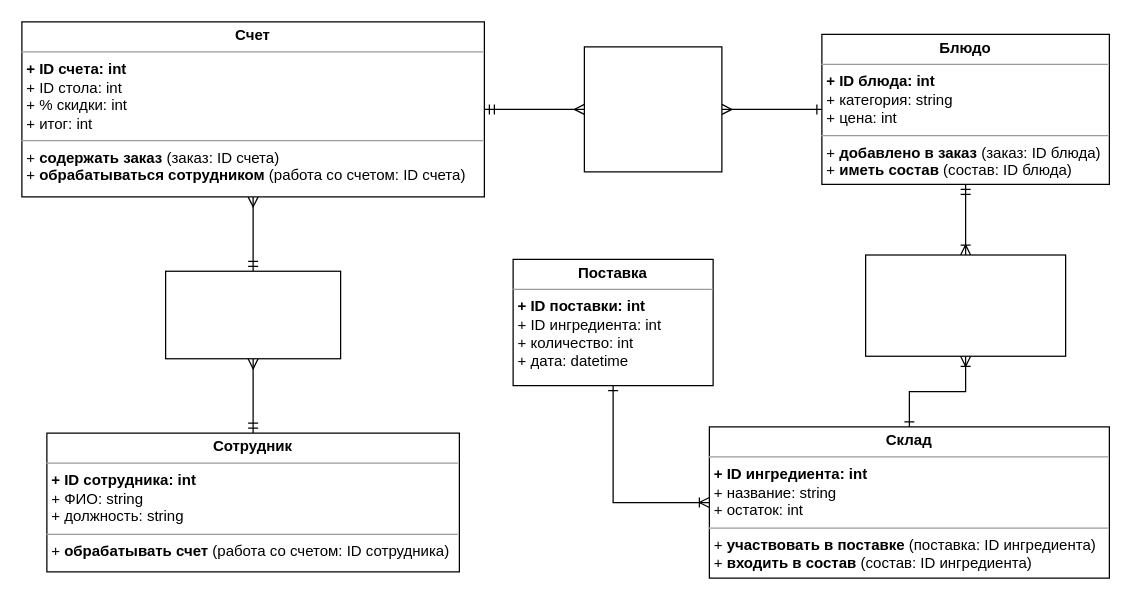
Image size: 1131x600. Some labels were removed from this diagram. Here are the shapes that lost their labels. From the top down, the centre of each, then its label:
At (x=652, y=109): "Заказ + ID счета: int + ID блюда: int + количество: int + сумма: int".
At (x=252, y=314): "Работа со счетом + ID сотрудника: int + ID счета: int".
At (x=965, y=305): "Состав + ID блюда: int + ID ингредиента: int + количество: int".
